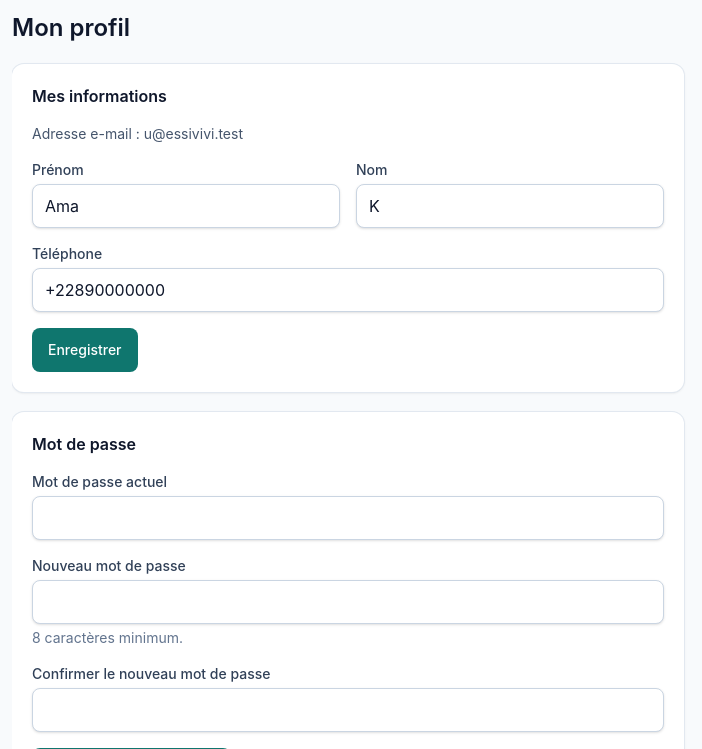
Test: page Profil › préremplit puis enregistre les informations
Replace the text in the field labelled "Prénom" with "Akossiwa": (186, 206) [32, 184, 340, 228]
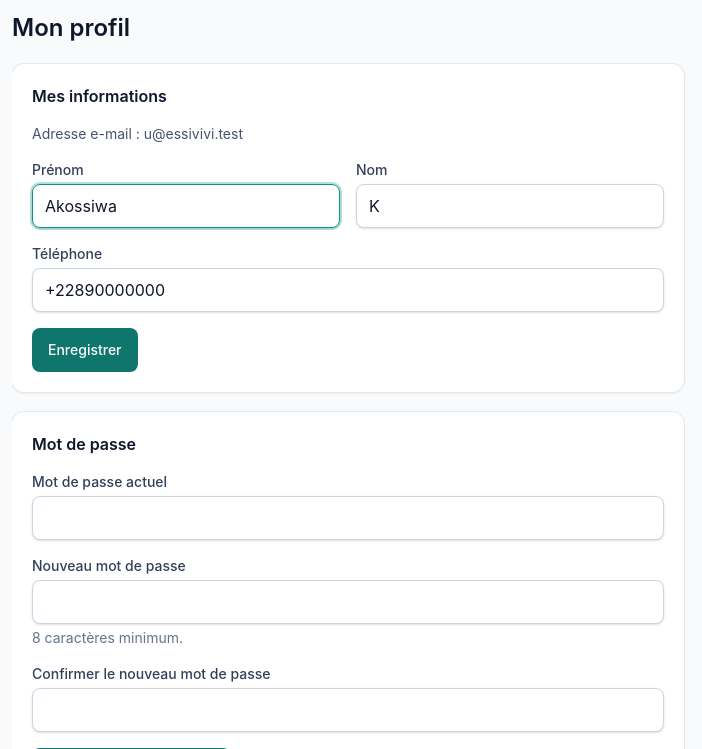
Click the button "Enregistrer": (85, 350) [32, 328, 138, 372]
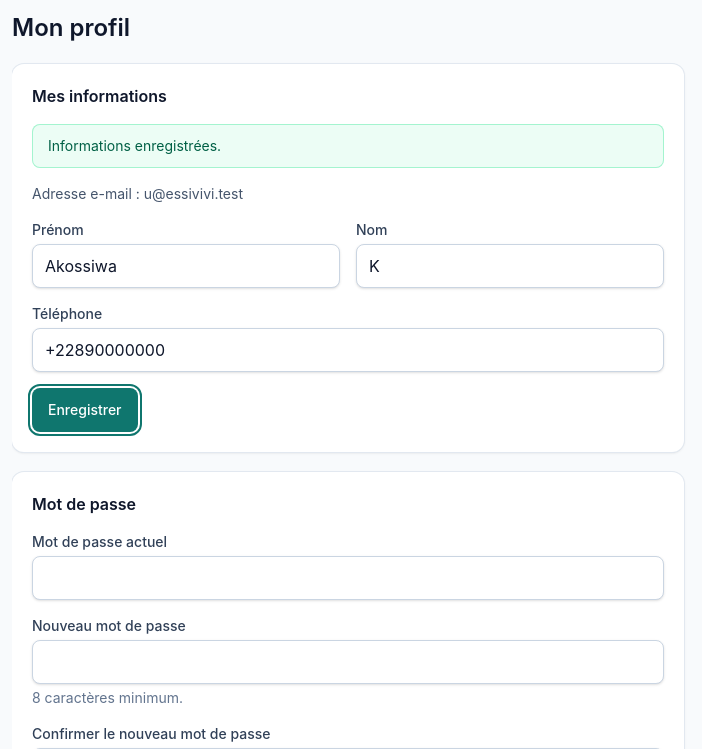
Now the text "Informations enregistrées." is shown, box [32, 124, 664, 168]
